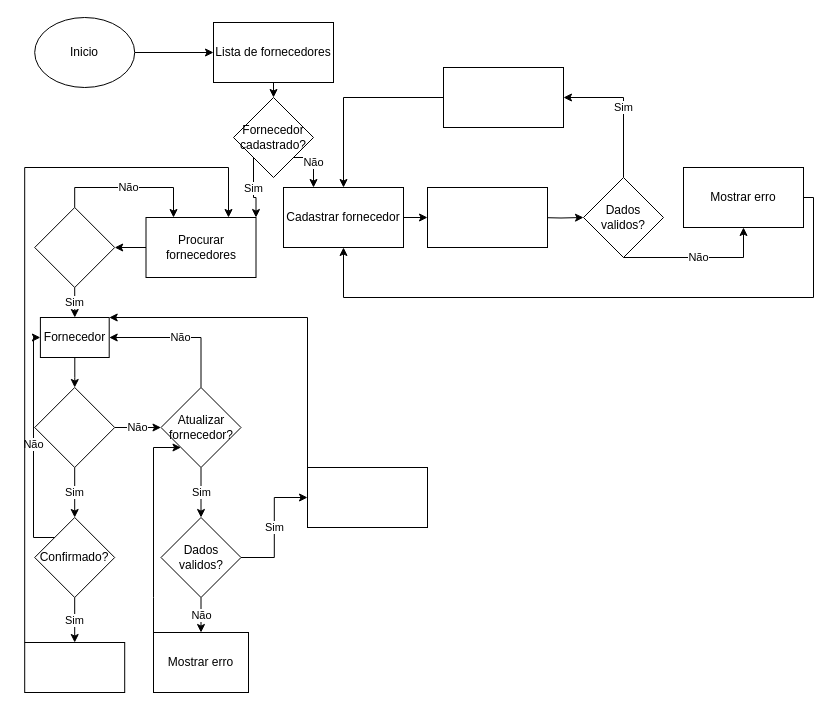
Some shapes in this 839 by 710 pixel diagram are drawn without their labels. The centre of each missing label's shape, as x and y in pixels:
"Apagado com sucesso" goes at (x=74, y=667).
"Apagar fornecedor?" goes at (x=74, y=427).
"Atualizado com sucesso" goes at (x=367, y=497).
"Cadastro bem sucedido" goes at (x=503, y=97).
"Dados do fornecedor Nome, telefone e email" goes at (x=487, y=217).
"Encontrou fornecedor?" goes at (x=74, y=247).
